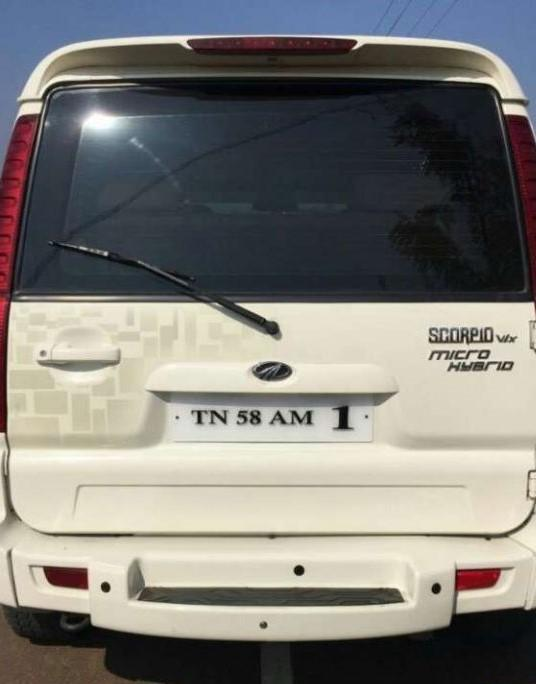License-Plate: (168, 397, 359, 443)
